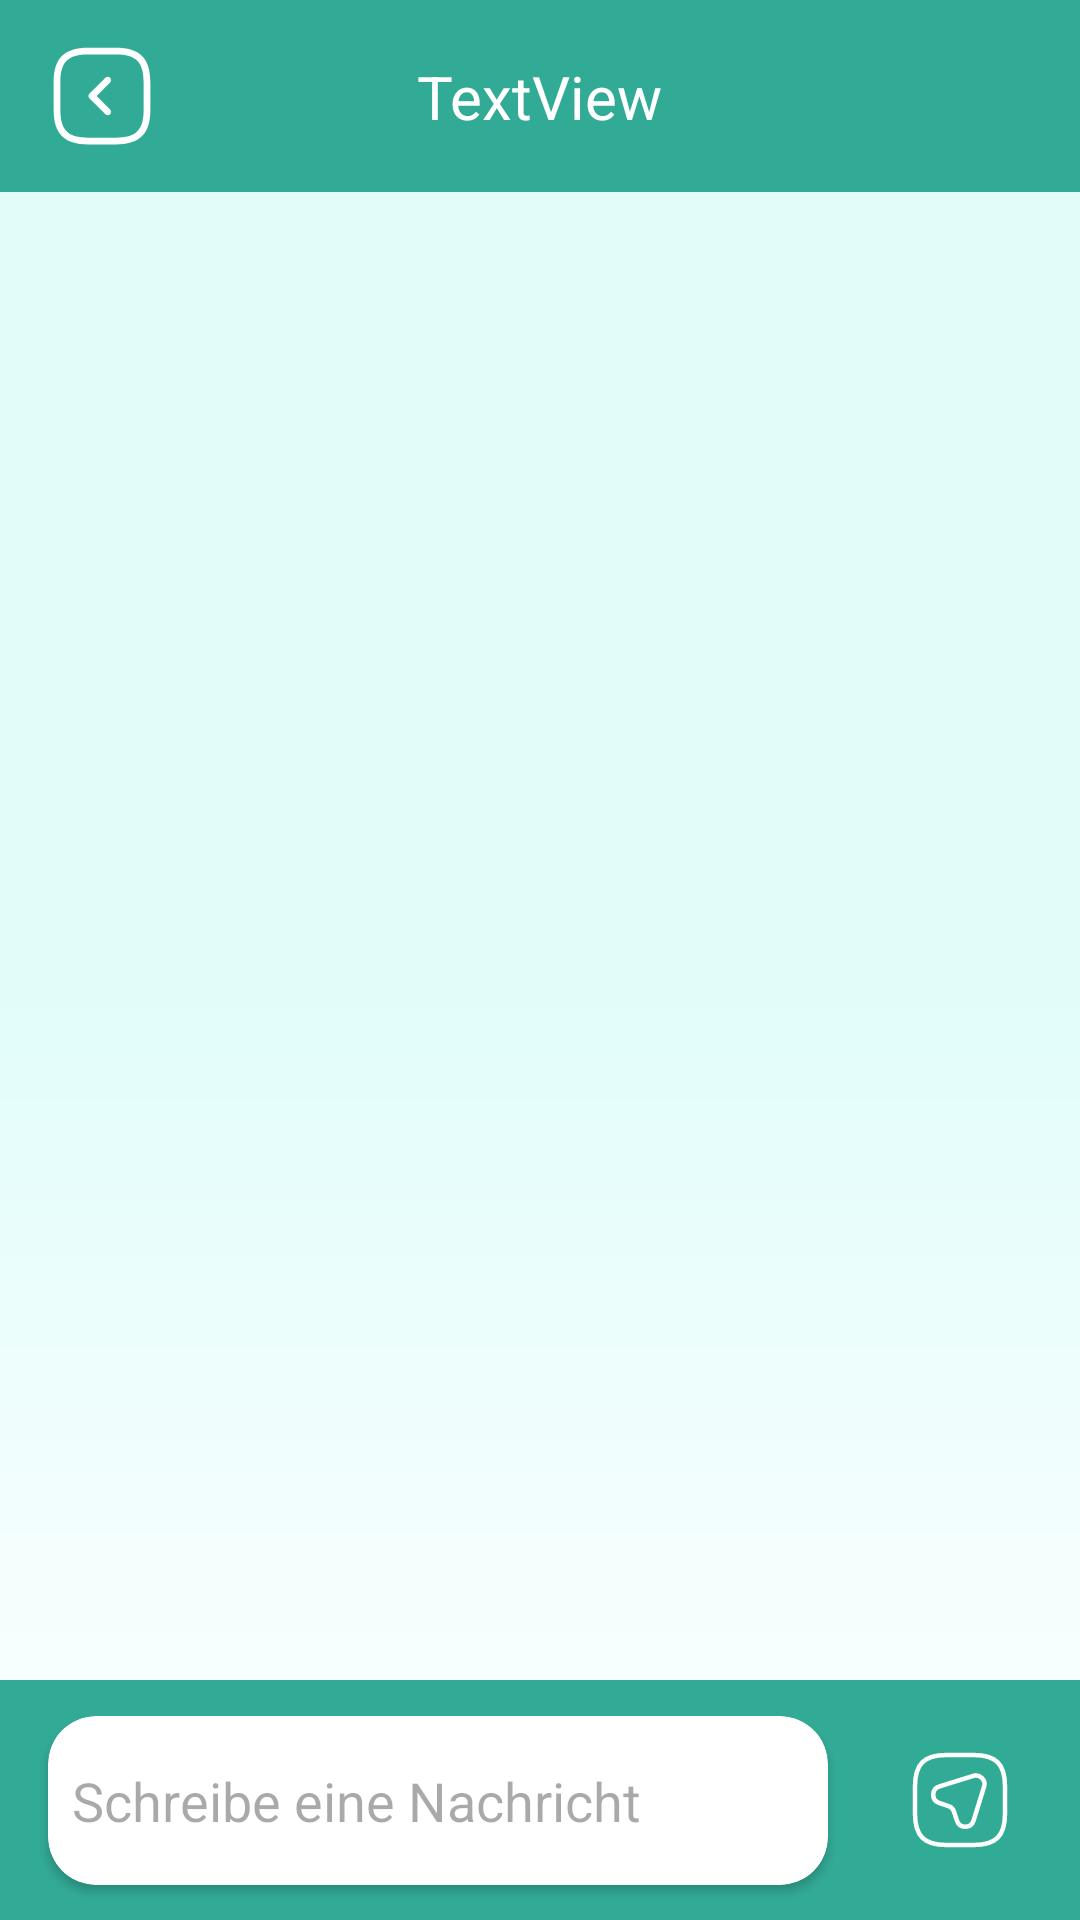

Icons on this 1080×1920 Android screen, each with the point to tap as [x,y]:
arrow square left: [102,96]
send message: [960,1800]
